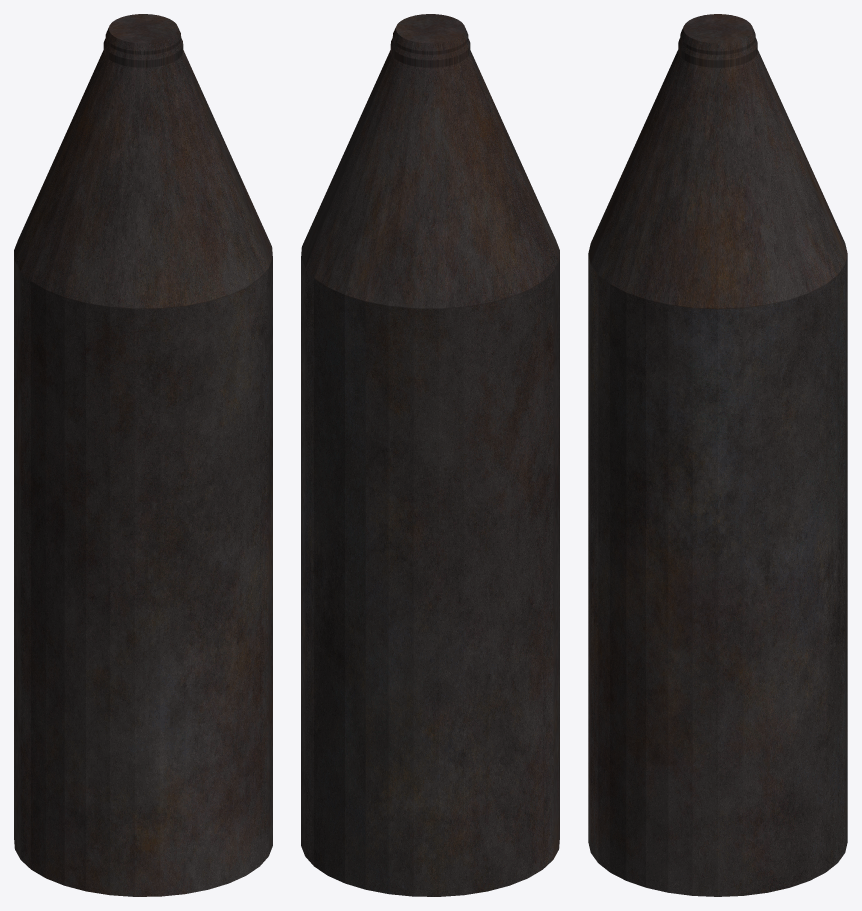
Rendered from shell.glb.
3 views of the same model, side by side, from view 1: azimuth 30°, elevation 25°; view 2: azimuth 150°, elevation 25°; view 3: azimuth 270°, elevation 25° (orthographic).
Visible parts, largest first — view 1: Cylinder; view 2: Cylinder; view 3: Cylinder.
Boxes of the visible parts, box(x1,y1,x2,y2) form: Cylinder: box(14, 14, 272, 896); Cylinder: box(301, 14, 559, 896); Cylinder: box(588, 14, 847, 896).
Size of the model in its own units: 0.16 by 0.5536 by 0.16.
Materials: 1 (1 with a texture image).
